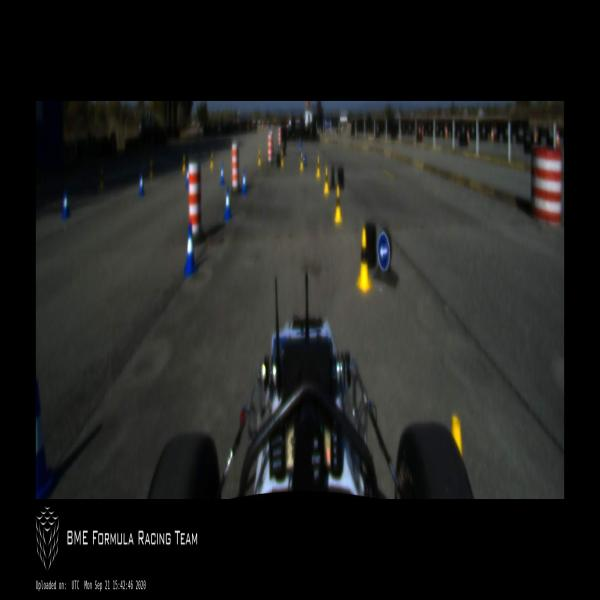blue_cone: (36, 378, 53, 499), (184, 225, 197, 278), (61, 190, 70, 220), (224, 186, 231, 221), (138, 172, 145, 198), (220, 164, 225, 186), (242, 170, 246, 195), (186, 166, 188, 189)
yellow_cone: (355, 227, 373, 294), (450, 413, 463, 459), (334, 185, 343, 224), (323, 165, 330, 197), (100, 169, 105, 190), (299, 151, 304, 171), (257, 148, 262, 167), (316, 157, 320, 180), (280, 150, 285, 168), (182, 154, 186, 173), (210, 152, 214, 170), (149, 161, 153, 179)
